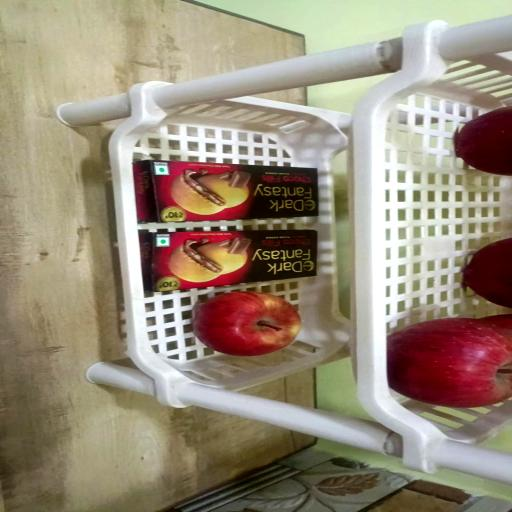Apple: (388, 318, 512, 408), (192, 292, 301, 357), (453, 106, 512, 175), (462, 238, 512, 309)
Choco Fills: (133, 160, 319, 222), (139, 230, 317, 291)
